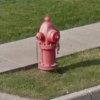Hydrant: (28, 11, 75, 76)
